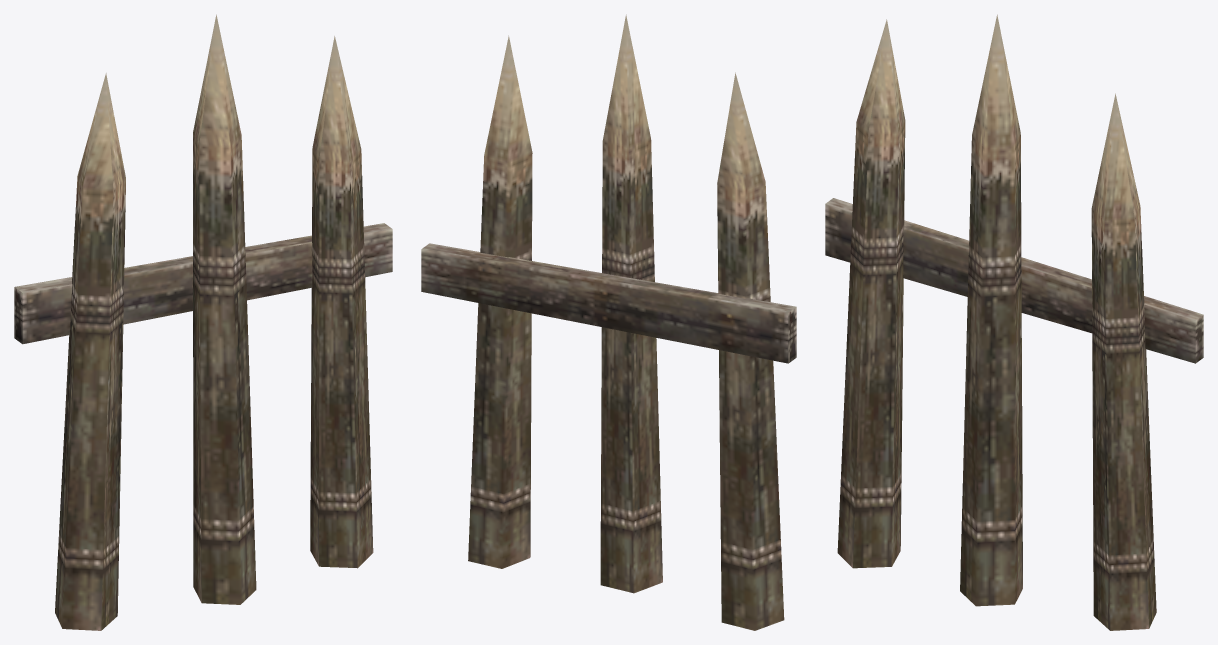
File: OZ_26_mi_fence02A.glb
3 views of the same model, side by side, from view 1: azimuth 30°, elevation 25°; view 2: azimuth 150°, elevation 25°; view 3: azimuth 330°, elevation 25° (orthographic).
Visible parts, largest first — view 1: OM_26_mi_fence02A; view 2: OM_26_mi_fence02A; view 3: OM_26_mi_fence02A.
Boxes of the visible parts, x1,y1,x2,y2 form: OM_26_mi_fence02A: [14, 14, 392, 630]; OM_26_mi_fence02A: [421, 14, 796, 630]; OM_26_mi_fence02A: [825, 14, 1203, 630].
Size of the model in its own units: 2.4 by 3.56 by 0.4697.
1 material, 1 textured.
